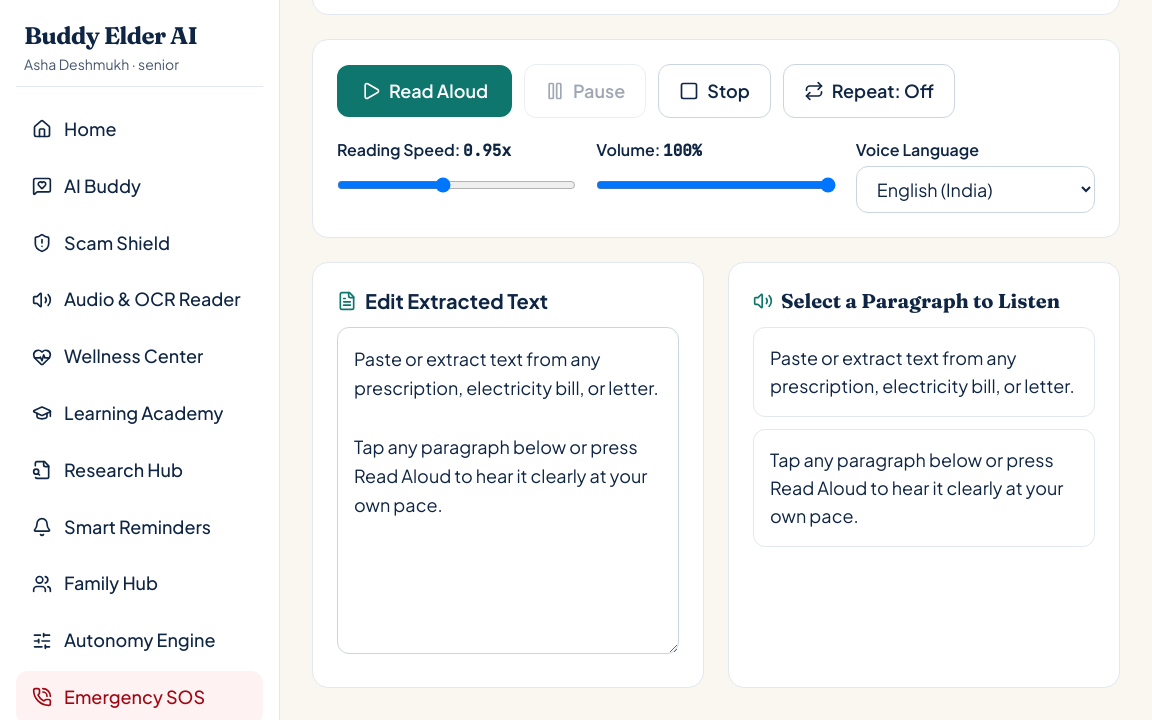
it: Buddy Elder AI Full UI & Accessibility Page Suite › renders AudioReaderPage with OCR language selector, text editor, and speech controls
(page scrolled)
Expected: the button "Read Aloud" is shown, top-left (337, 65), bottom-right (512, 117)
Expected: the button "Repeat: Off" is shown, top-left (783, 64), bottom-right (955, 118)
Replace the text in the text box labelled "Edit Extracted Text" with "Take one tablet after breakfast.": (508, 490) top-left (337, 327), bottom-right (679, 654)
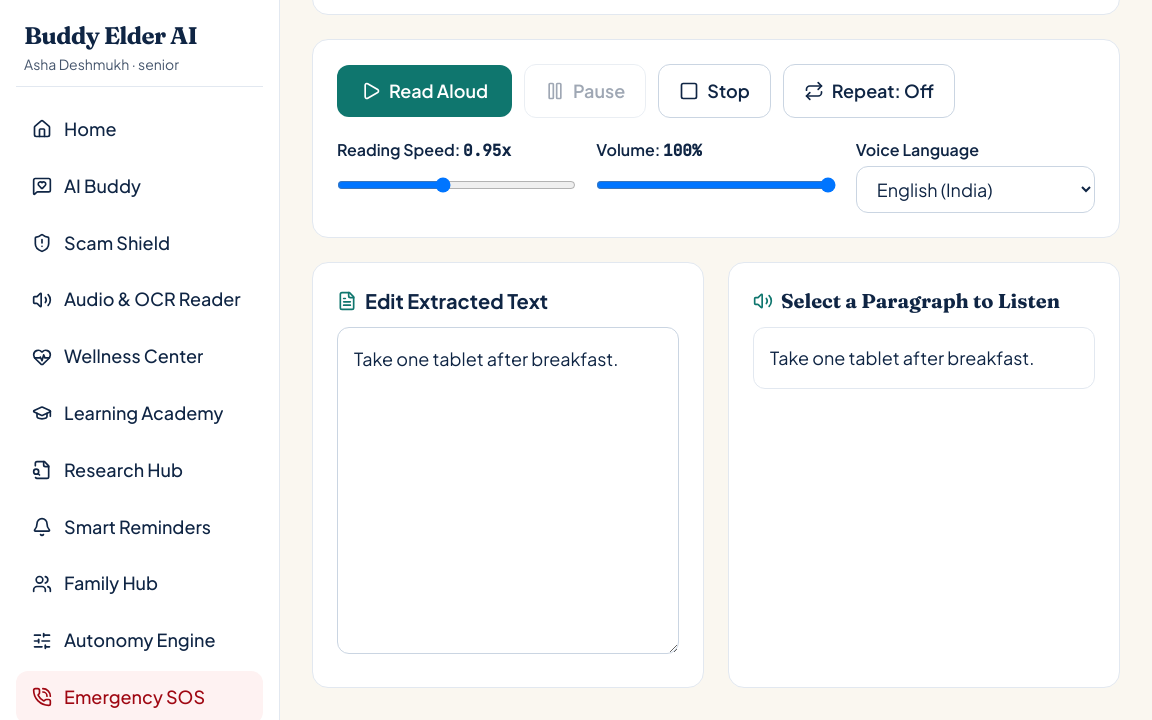
Expected: the button "Take one tablet after breakfast." is shown, top-left (753, 327), bottom-right (1095, 389)
